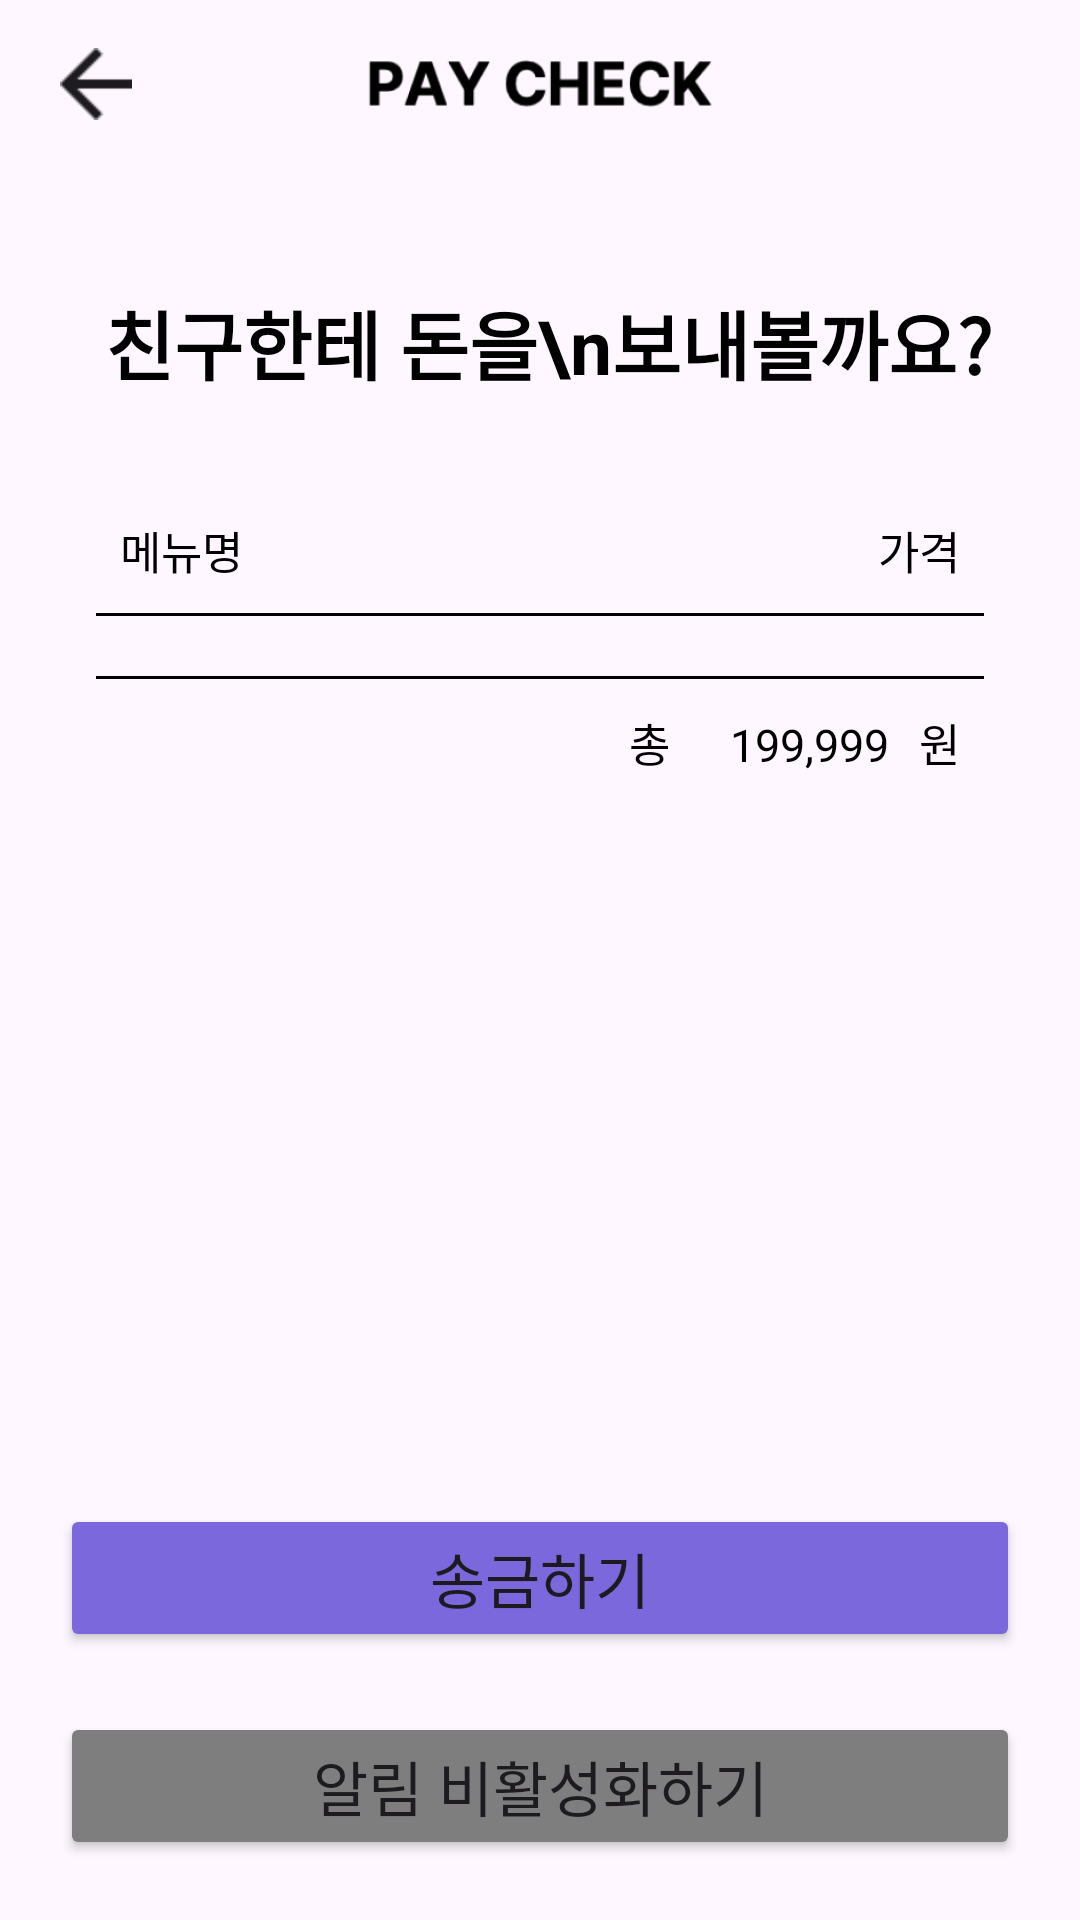

Where icons sit on this 1080 x 1920 app screen, as BBox(x1, y1, x2, y2):
back: BBox(60, 48, 132, 120)
